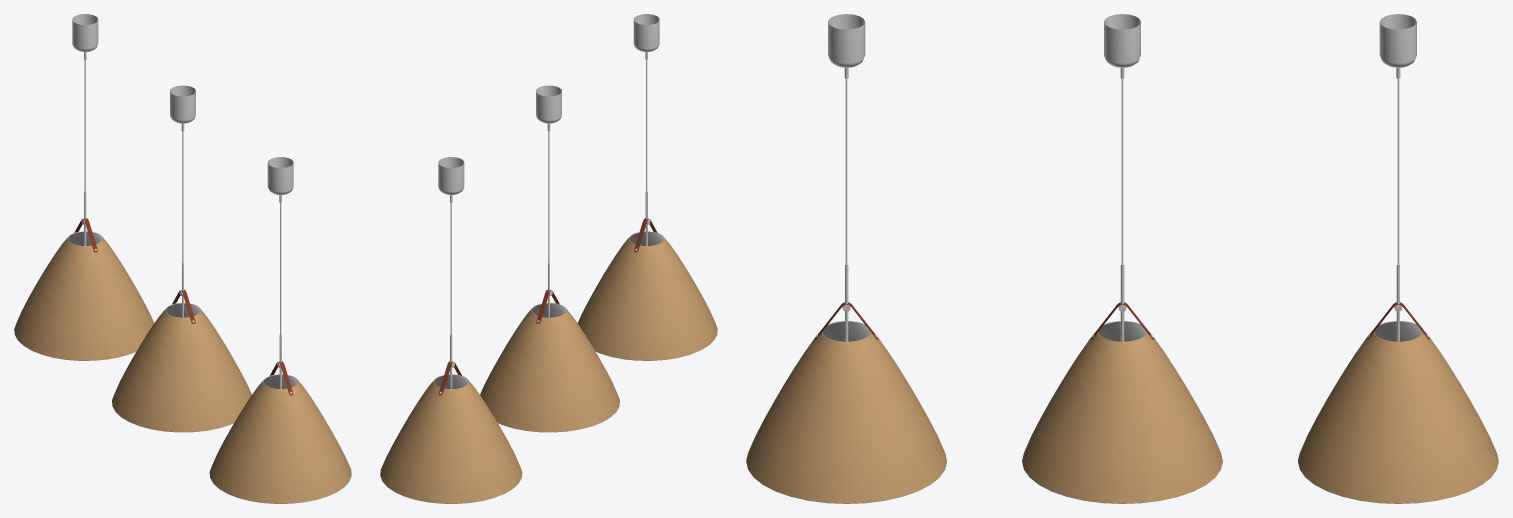
File: Furniture_Lamp2_Pack.fbx
3 renders of one model, left to right at view 1: azimuth 30°, elevation 25°; view 2: azimuth 150°, elevation 25°; view 3: azimuth 270°, elevation 25°, orthographic. The views are drawn at different scales.
Visible parts, largest first — view 1: Furniture_Lamp2_White, Furniture_Lamp2_Green, Furniture_Lamp2_Yellow; view 2: Furniture_Lamp2_Green, Furniture_Lamp2_White, Furniture_Lamp2_Yellow; view 3: Furniture_Lamp2_Yellow, Furniture_Lamp2_White, Furniture_Lamp2_Green.
Boxes of the visible parts, left/top/right/bottom form: Furniture_Lamp2_White: left=209, top=157, right=351, bottom=503; Furniture_Lamp2_Green: left=14, top=14, right=154, bottom=360; Furniture_Lamp2_Yellow: left=112, top=85, right=251, bottom=432; Furniture_Lamp2_Green: left=380, top=157, right=522, bottom=503; Furniture_Lamp2_White: left=577, top=14, right=717, bottom=360; Furniture_Lamp2_Yellow: left=480, top=85, right=619, bottom=432; Furniture_Lamp2_Yellow: left=1022, top=14, right=1222, bottom=503; Furniture_Lamp2_White: left=746, top=14, right=946, bottom=503; Furniture_Lamp2_Green: left=1298, top=14, right=1498, bottom=503.
Bounding box in the file's own units: 36.44 × 87.96 × 136.
